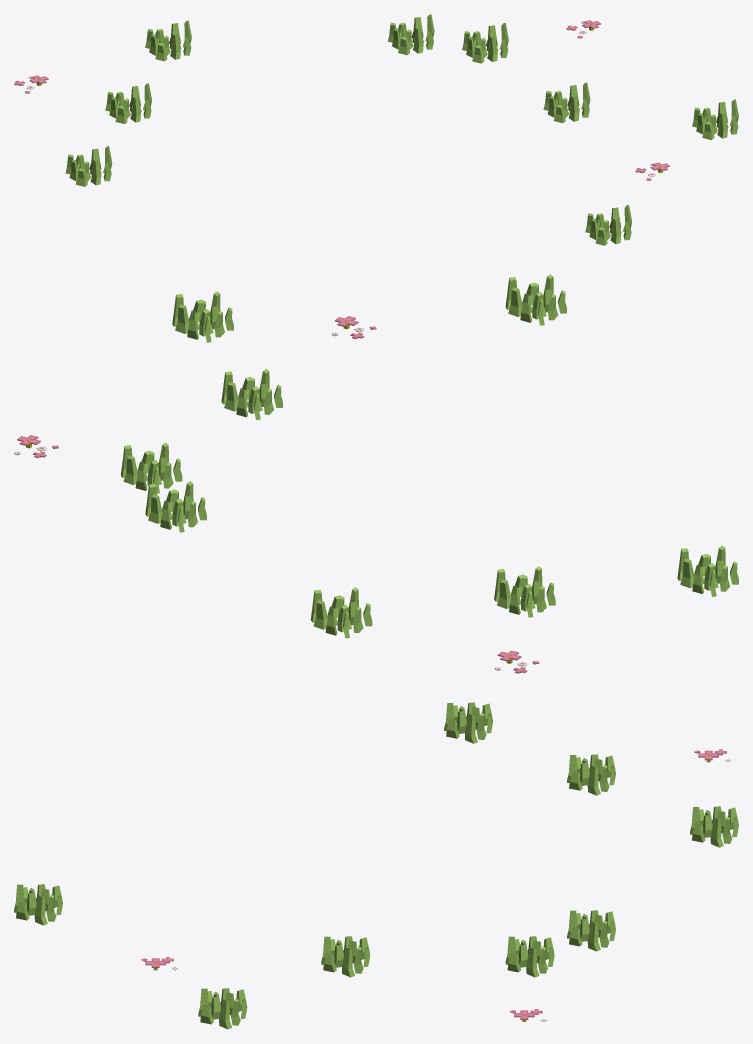
File: flower_grass 23.fbx
The picture shows the model from 3 angles, top to bottom: view 1: azimuth 30°, elevation 25°; view 2: azimuth 150°, elevation 25°; view 3: azimuth 270°, elevation 25°; orthographic projection. The views are drawn at different scales.
Visible parts, largest first — view 1: Grass_2; view 2: Grass_2; view 3: Grass_2.
Part boxes in pixels (left/top/right/bottom): Grass_2: left=14, top=14, right=738, bottom=245; Grass_2: left=14, top=274, right=738, bottom=673; Grass_2: left=14, top=702, right=738, bottom=1029.
Bounding box in the file's own units: 7146 × 294 × 7079.
Materials: 2 (2 with a texture image).
